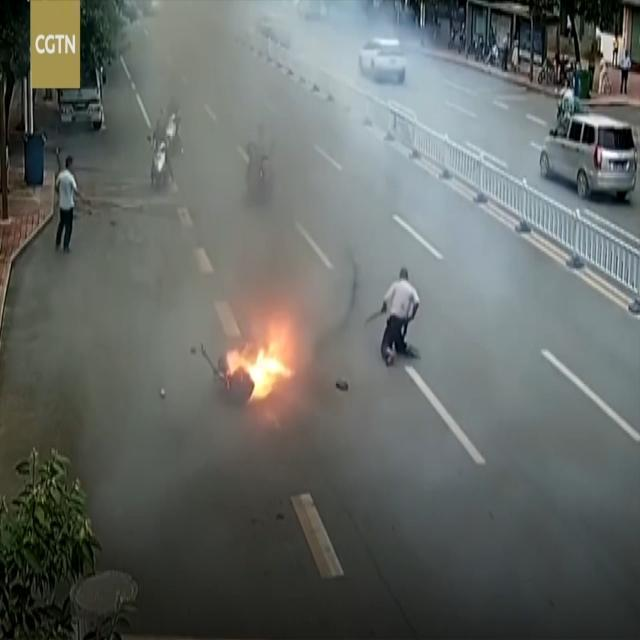fire: (217, 310, 305, 408)
